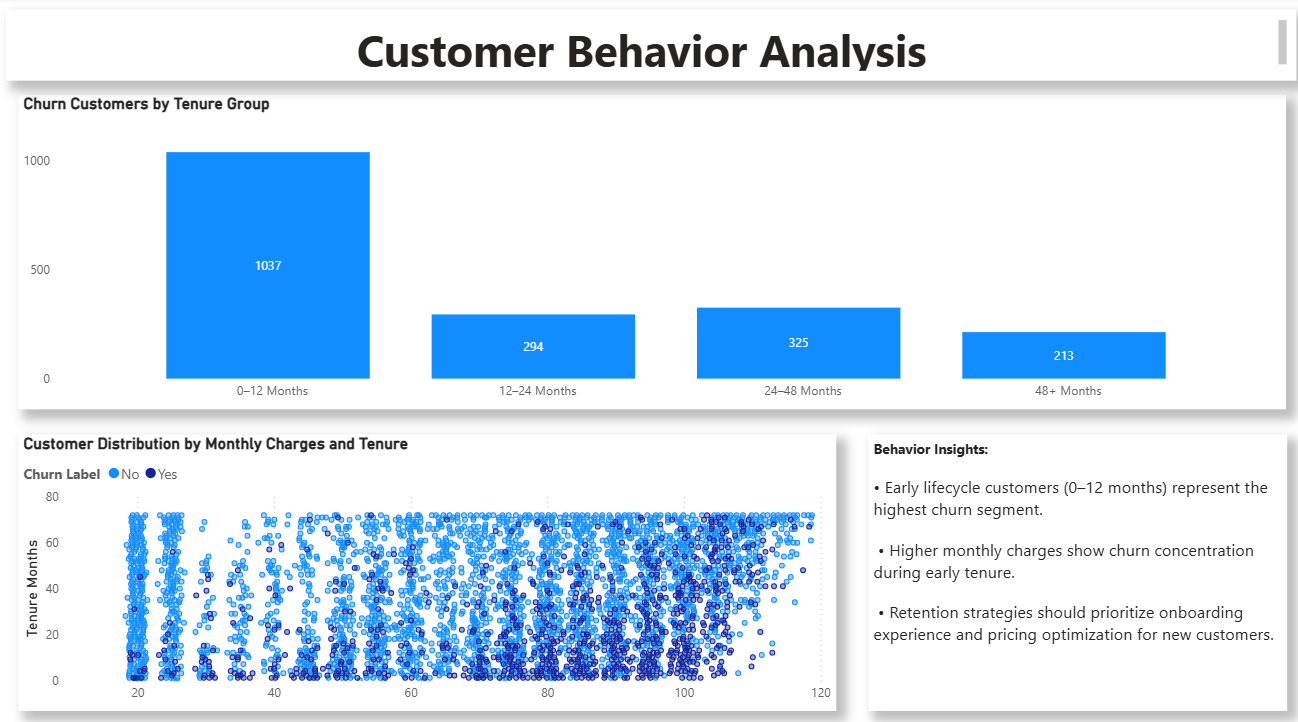

The page's visual inventory and layout, read from the dashboard file:
{"tool":"powerbi","page":{"name":"Customer Behavior Analysis","canvas":[1280,720],"ordinal":1},"visuals":[{"type":"clusteredColumnChart","fields":{"Y":["Telco_Churn.Churn Customers"],"Category":["Telco_Churn.Tenure Group"]},"box":[37.5,95,1225,308.8],"z":0},{"type":"scatterChart","title":"Customer Distribution by Monthly Charges and Tenure","fields":{"X":["Telco_Churn.Monthly Charges"],"Y":["Telco_Churn.Tenure Months"],"Series":["Telco_Churn.Churn Label"]},"box":[37.9,428,783.8,270.2],"z":1000},{"type":"textbox","box":[9.6,12.3,1262.4,70],"z":2000},{"type":"textbox","box":[865.8,428,414.5,270.2],"z":3000}]}

Visuals, with their boxes in screenshot pixels (x1, y1, x2, y2), scaled from the page's 1280x720 canvas onto the 1298x722 screenshot:
clusteredColumnChart - Telco_Churn.Churn Customers x Telco_Churn.Tenure Group: locate(38, 95, 1280, 405)
"Customer Distribution by Monthly Charges and Tenure" scatterChart: locate(38, 429, 833, 700)
textbox: locate(10, 12, 1290, 83)
textbox: locate(878, 429, 1297, 700)
